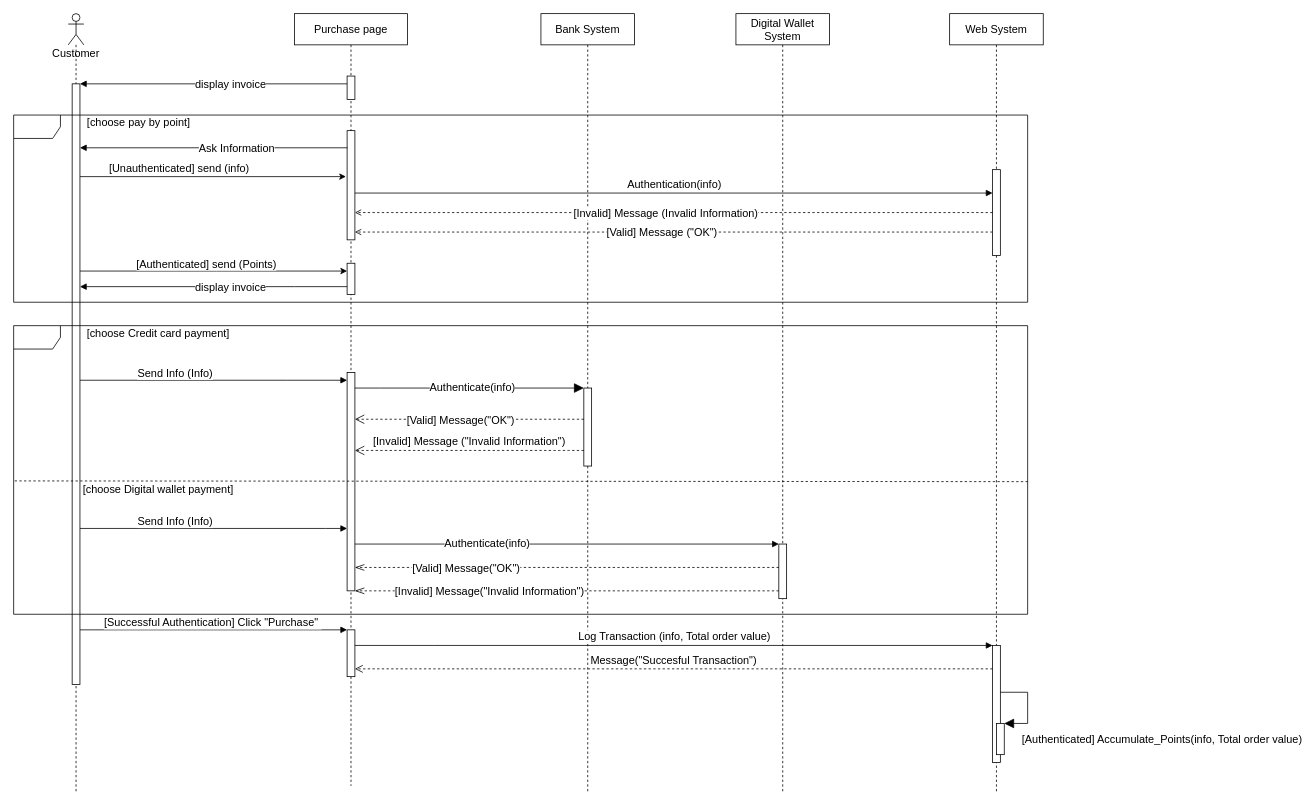
Some shapes in this 1316 by 807 pixel diagram are drawn without their labels. Each missing label, with the box of its shape:
Alt: (13, 325, 1028, 614)
Optional: (13, 114, 1028, 302)
